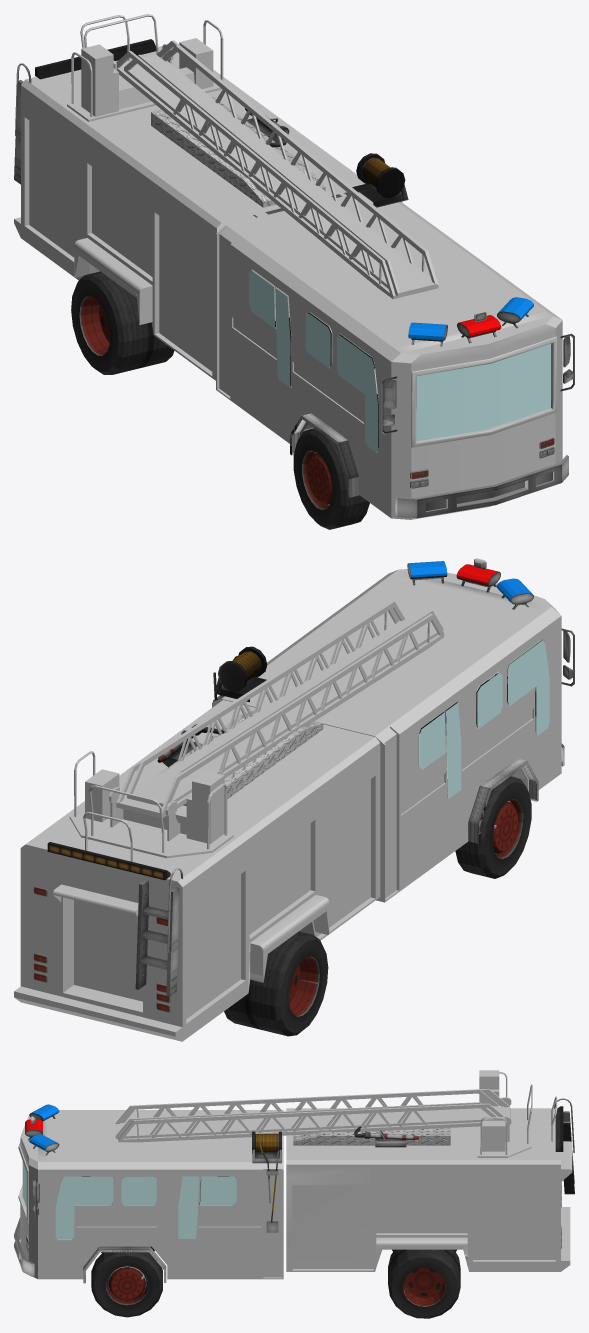
File: Fire Truck.FBX
3 views of the same model, one above another, from view 1: azimuth 30°, elevation 25°; view 2: azimuth 150°, elevation 25°; view 3: azimuth 270°, elevation 25° (orthographic). The views are drawn at different scales.
Visible parts, largest first — view 1: fire_druck_bodyt, Wheel_BR, Wheel_FR; view 2: fire_druck_bodyt, Wheel_BR, Wheel_FR; view 3: fire_druck_bodyt, Wheel_BL, Wheel_FL.
Boxes of the visible parts, x1,y1,x2,y2 form: fire_druck_bodyt: (14,14,574,519); Wheel_BR: (71,271,174,374); Wheel_FR: (293,428,369,529); fire_druck_bodyt: (14,558,574,1041); Wheel_BR: (224,931,328,1036); Wheel_FR: (455,776,531,878); fire_druck_bodyt: (14,1070,574,1283); Wheel_BL: (388,1249,460,1318); Wheel_FL: (91,1252,162,1317).
Size of the model in its own units: 8.04 by 10.29 by 26.98.
